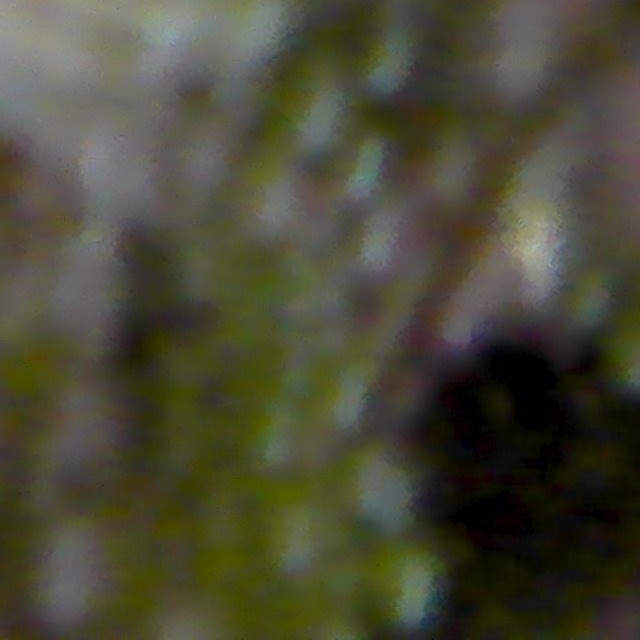SeaGrape: (354, 543, 439, 633), (255, 495, 343, 579), (339, 444, 424, 529)
